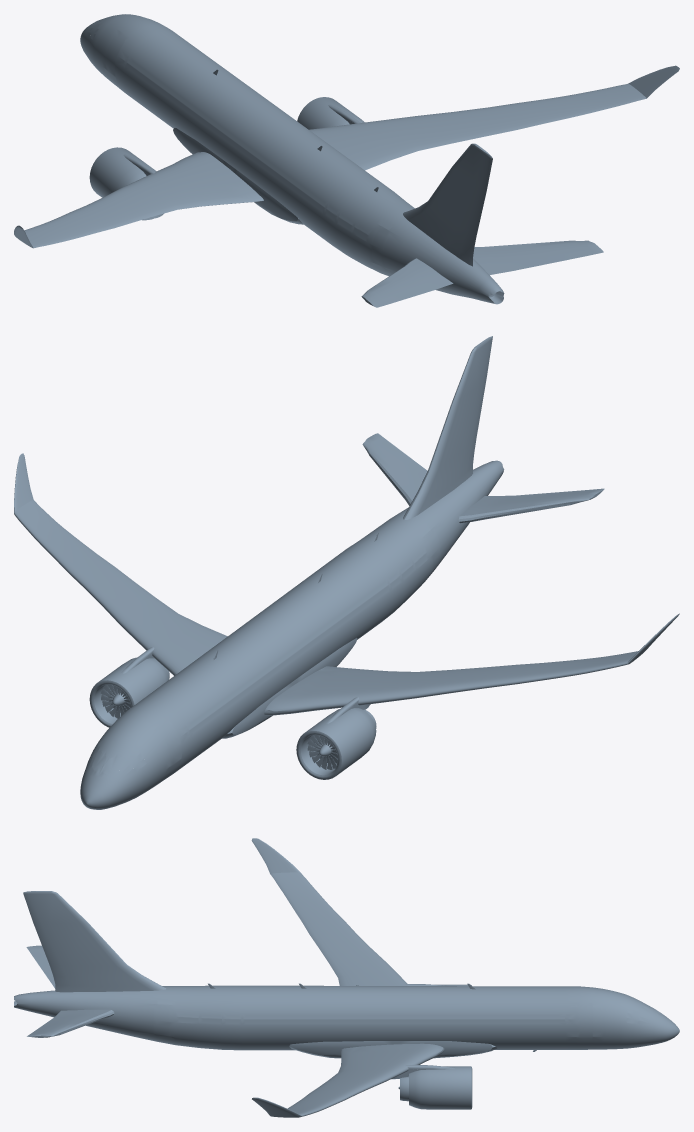
The picture shows the model from 3 angles, top to bottom: view 1: azimuth 30°, elevation 25°; view 2: azimuth 150°, elevation 25°; view 3: azimuth 270°, elevation 25°; orthographic projection. The views are drawn at different scales.
Size of the model in its own units: 35.17 by 11.09 by 38.17.
